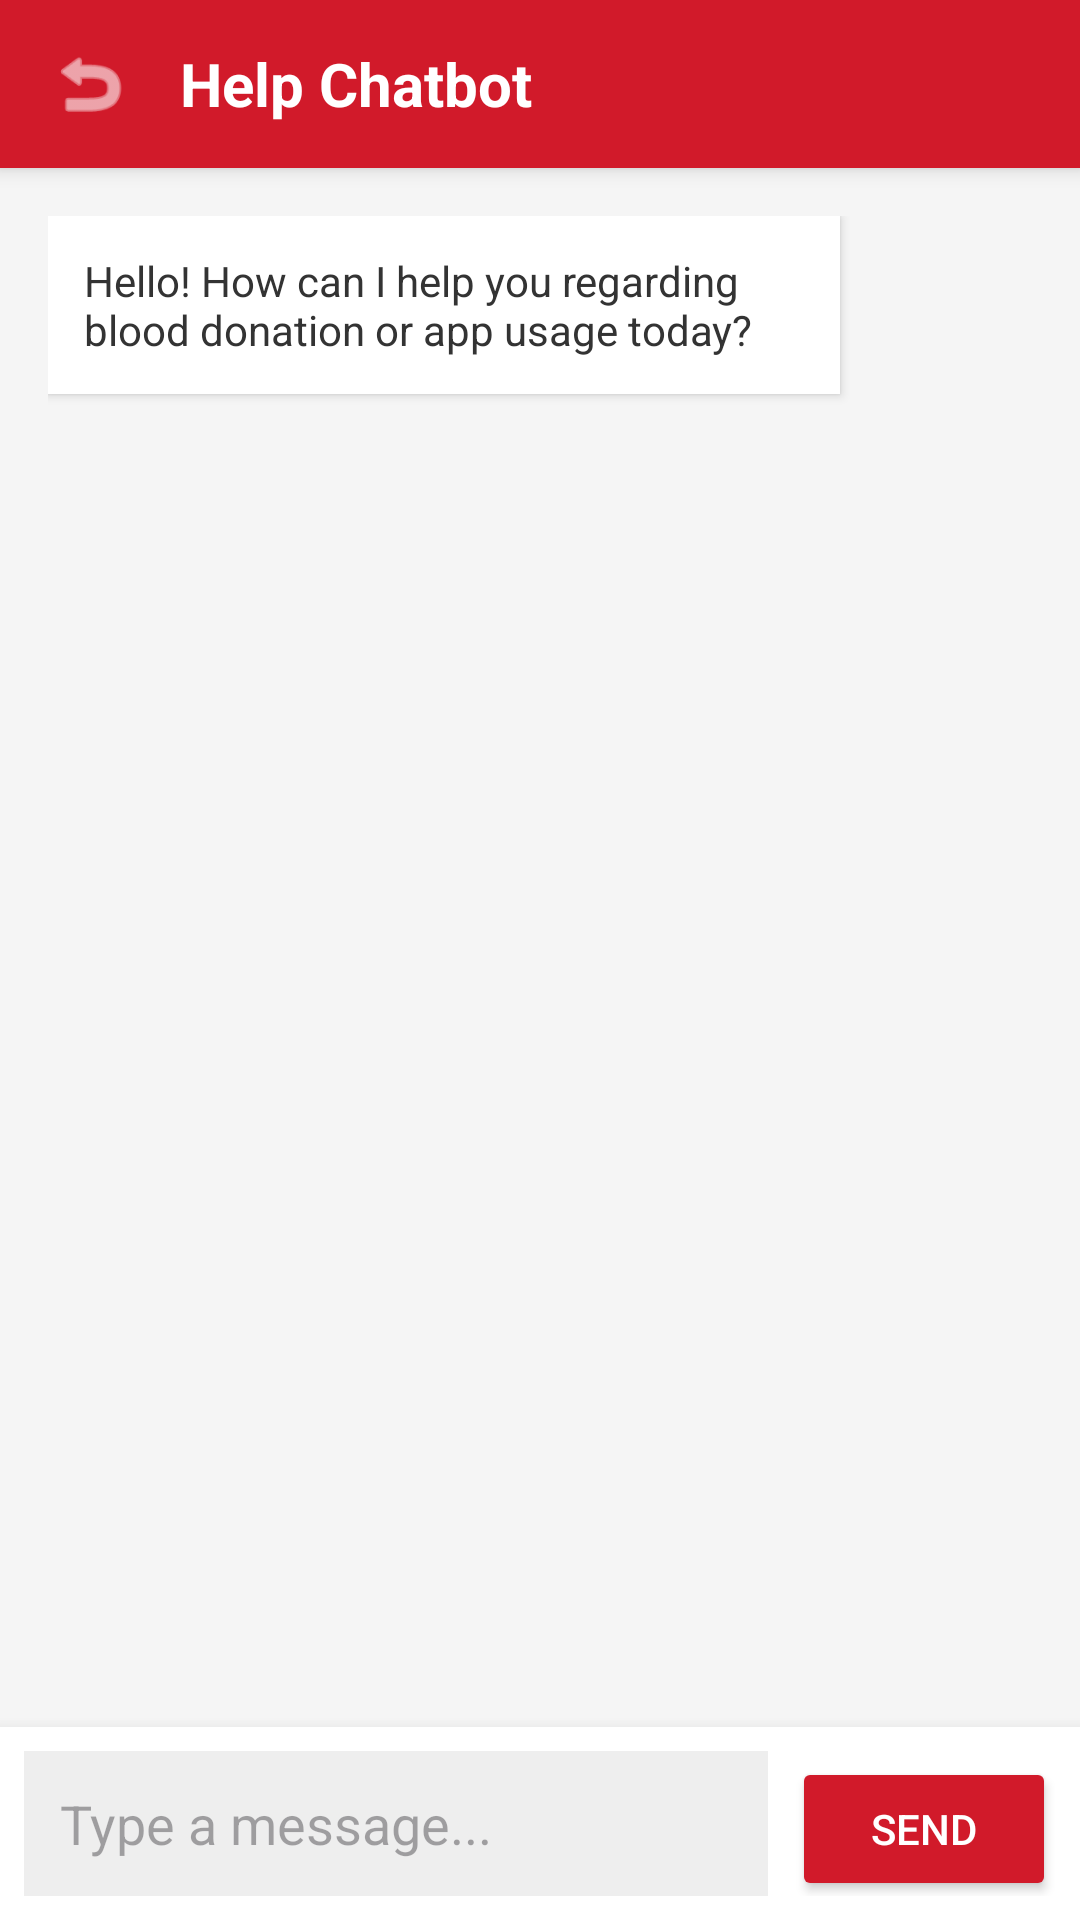

Where icons sit on this 1080px x 1920px app screen, as (x1, y1, x2, y2):
revert: (61, 57, 121, 112)
